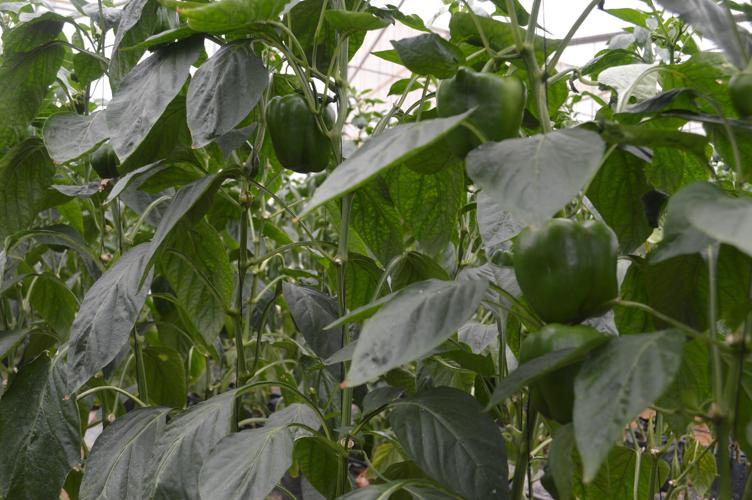BellPepper: (516, 222, 610, 316), (521, 322, 590, 419), (433, 72, 524, 141), (263, 97, 337, 175)
